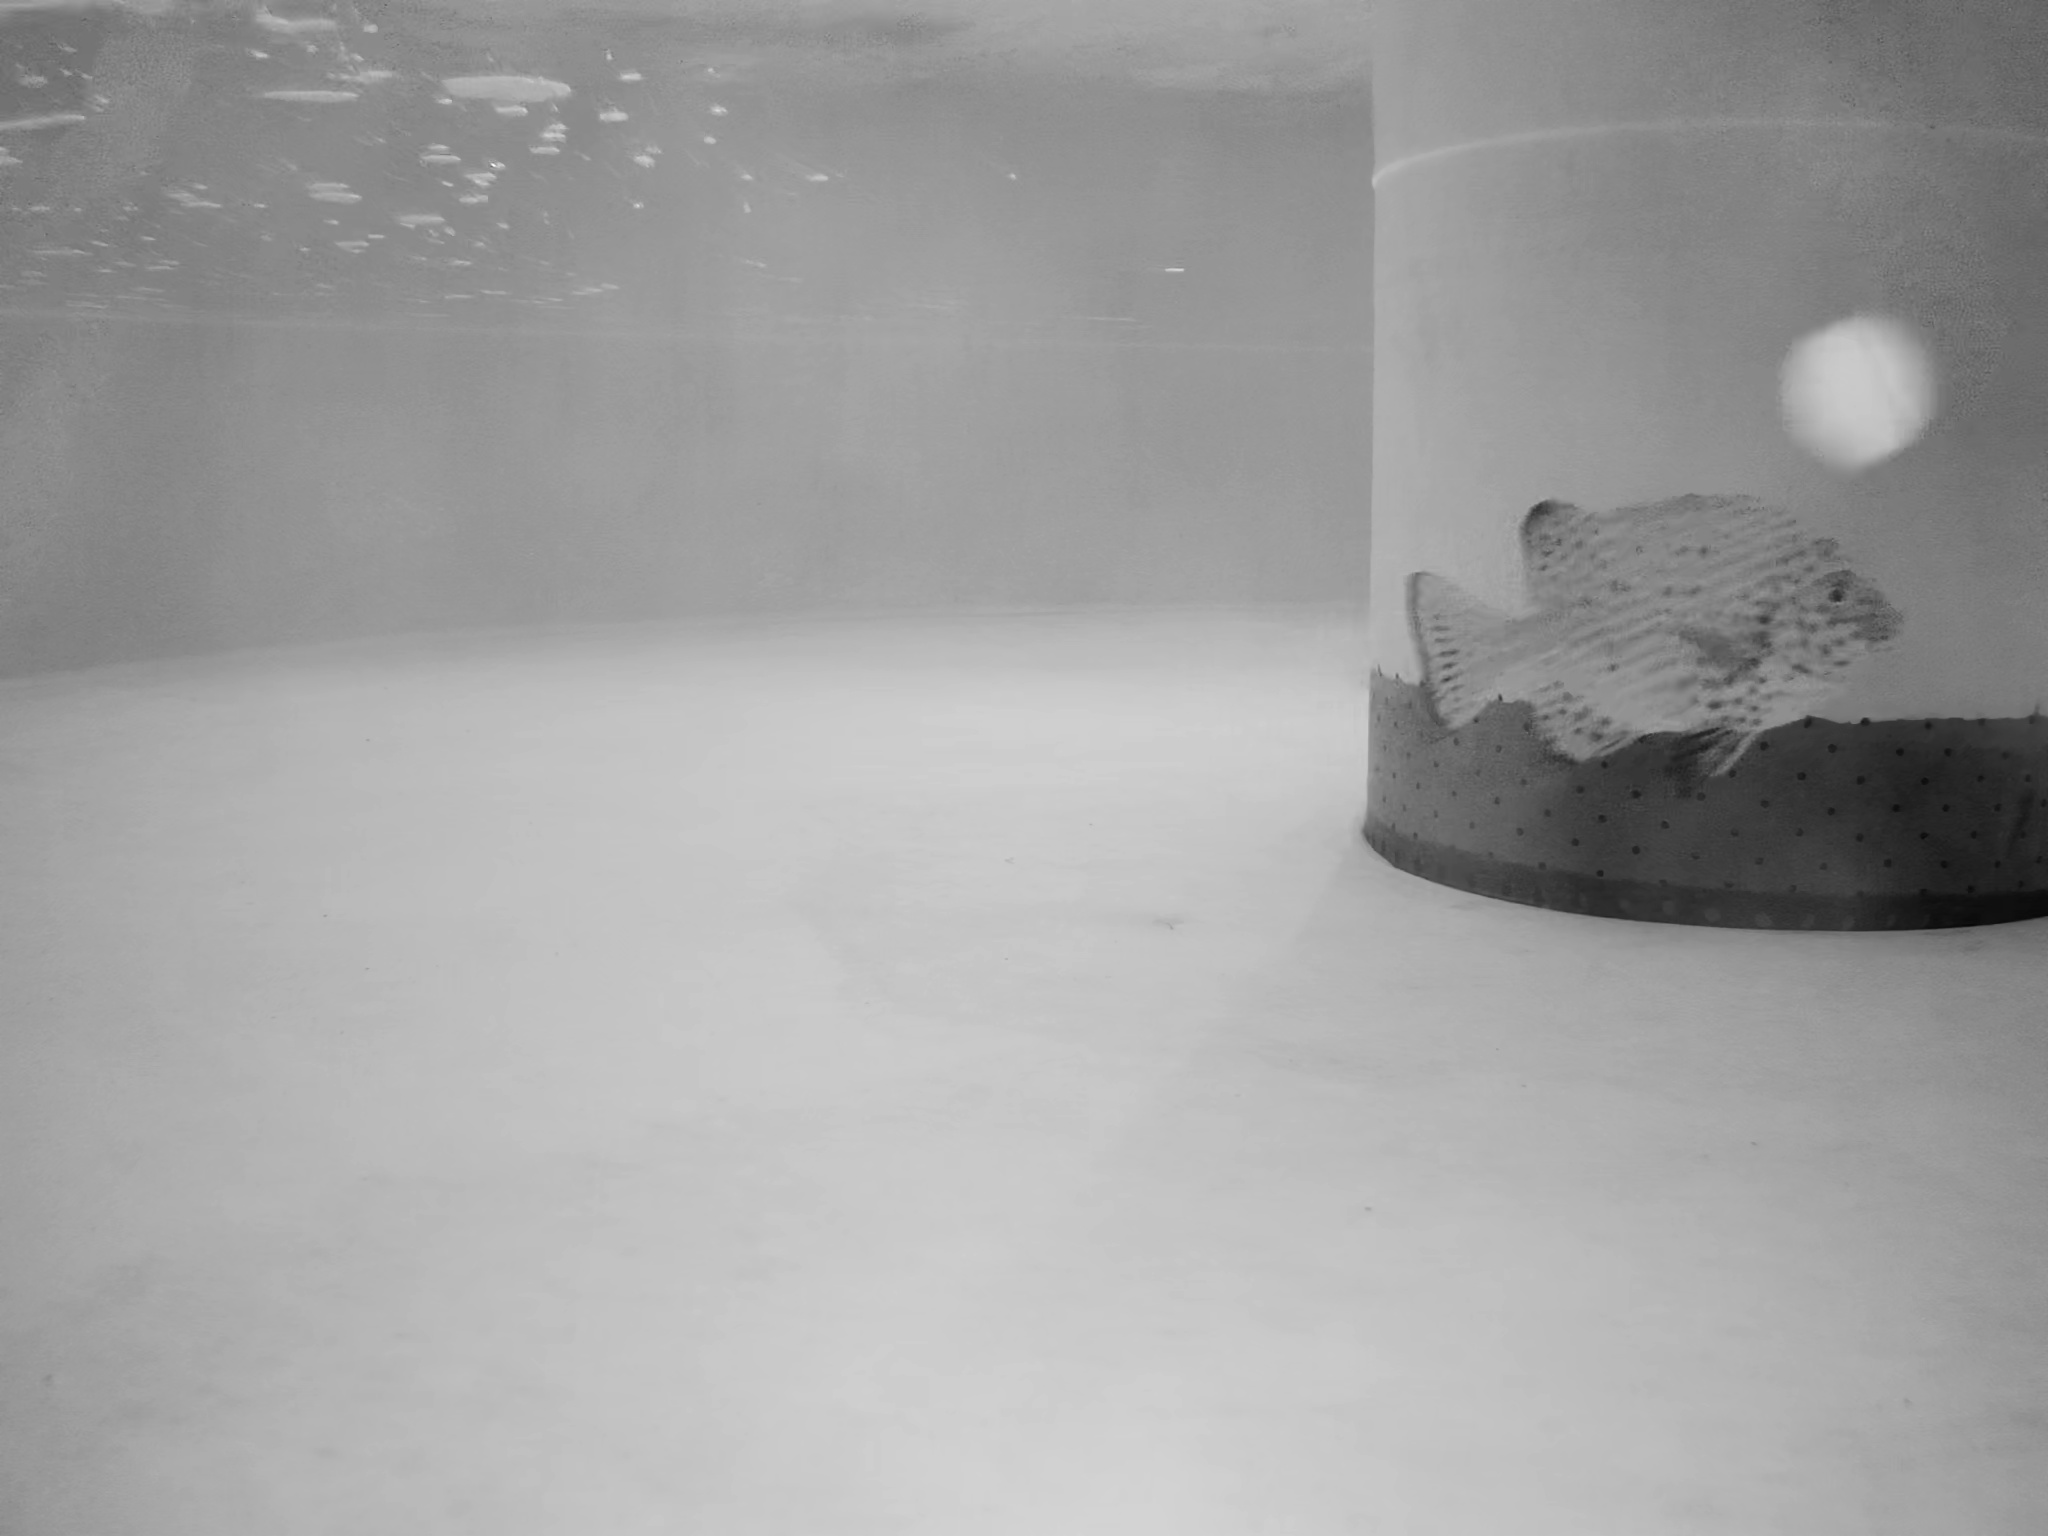fish: (1387, 494, 1911, 770)
